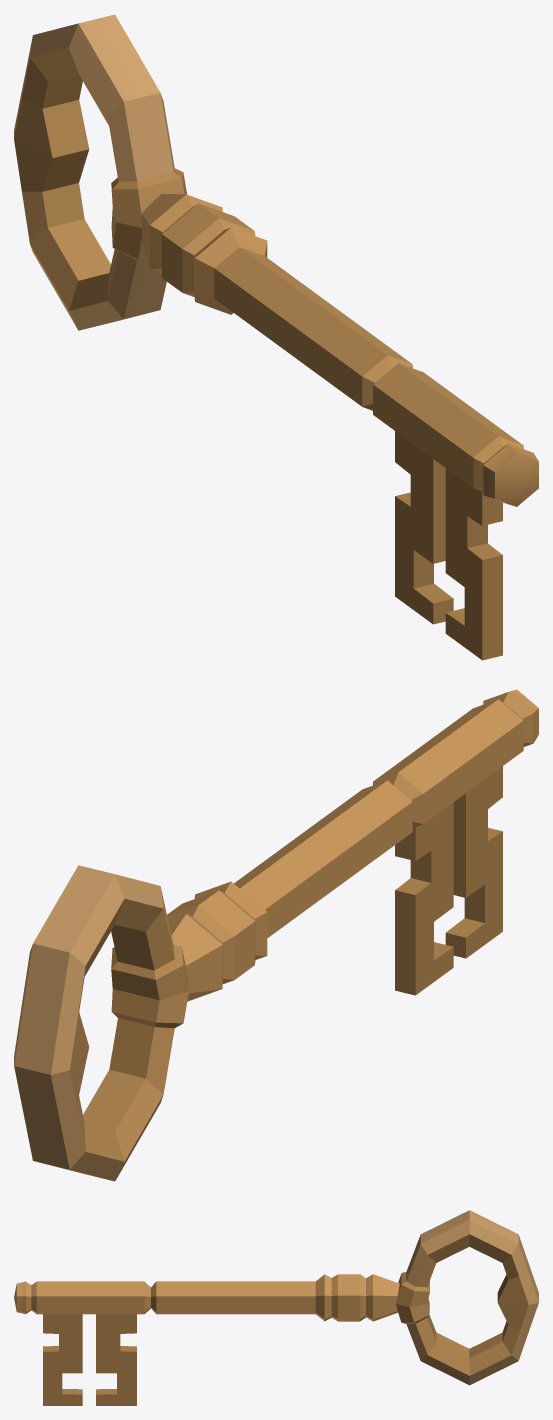
File: SM_Prop_Key_02.fbx
The picture shows the model from 3 angles, top to bottom: view 1: azimuth 30°, elevation 25°; view 2: azimuth 150°, elevation 25°; view 3: azimuth 270°, elevation 25°; orthographic projection. The views are drawn at different scales.
Parts seen in each view (by area): view 1: SM_Prop_Key_02; view 2: SM_Prop_Key_02; view 3: SM_Prop_Key_02.
Part boxes in pixels (<box>): SM_Prop_Key_02: <box>14,14,538,660</box>; SM_Prop_Key_02: <box>14,689,538,1181</box>; SM_Prop_Key_02: <box>14,1210,538,1405</box>.
Bounding box in the file's own units: 2.31 × 10.57 × 26.71.
